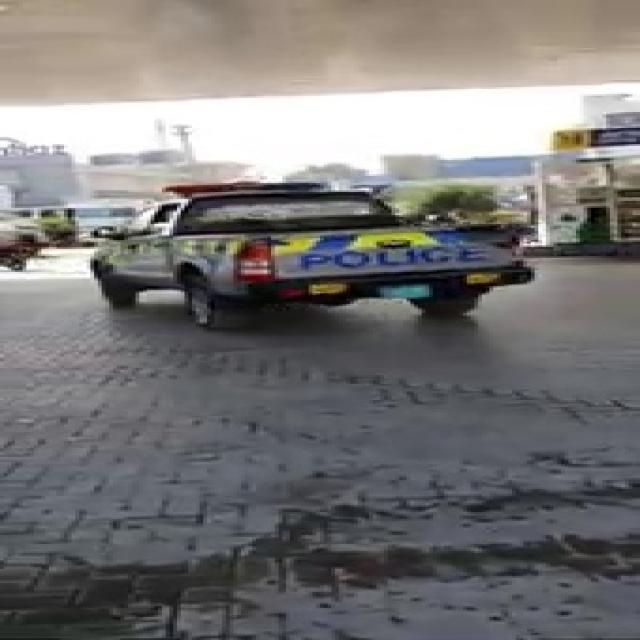police: (63, 184, 511, 330)
